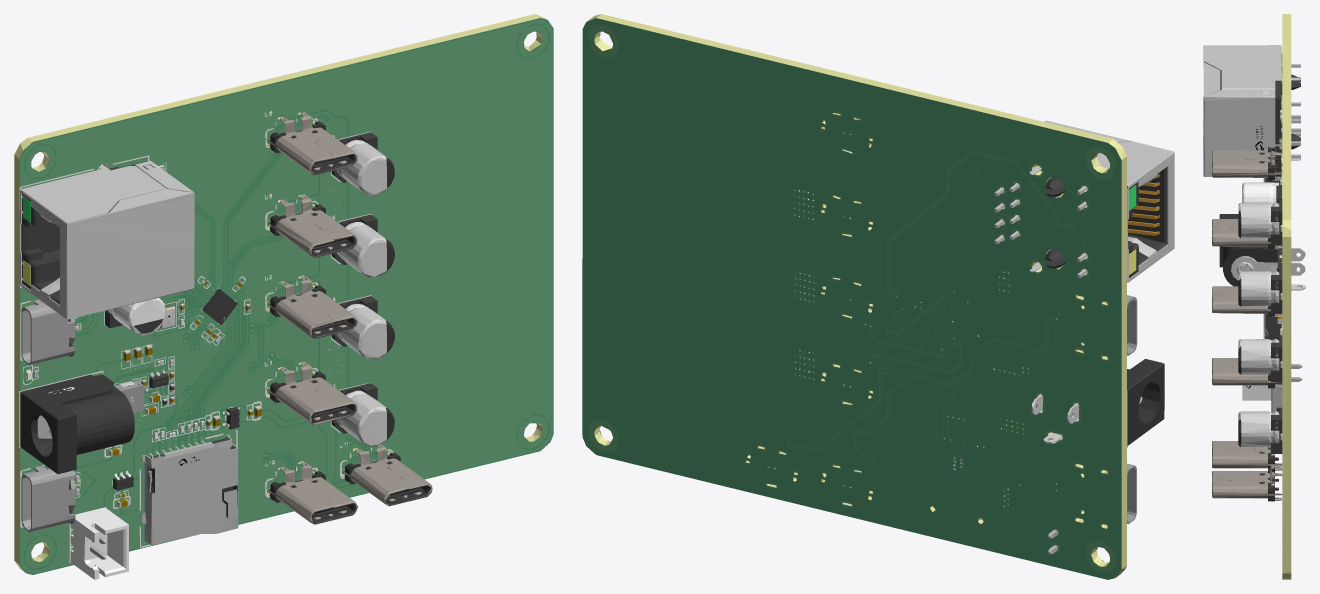
Rendered from base-lite.glb.
3 views of the same model, side by side, from view 1: azimuth 30°, elevation 25°; view 2: azimuth 150°, elevation 25°; view 3: azimuth 270°, elevation 25° (orthographic). The views are drawn at different scales.
Visible parts, largest first — view 1: =>[0:1:1:2]; view 2: =>[0:1:1:2]; view 3: =>[0:1:1:2].
Part boxes in pixels (x1,y1,x2,y2): =>[0:1:1:2]: (14, 14, 553, 579); =>[0:1:1:2]: (582, 14, 1174, 579); =>[0:1:1:2]: (1203, 14, 1305, 579).
Bounding box in the file's own units: 0.0901 × 0.0697 × 0.0179.
Materials: 1 (1 with a texture image).
